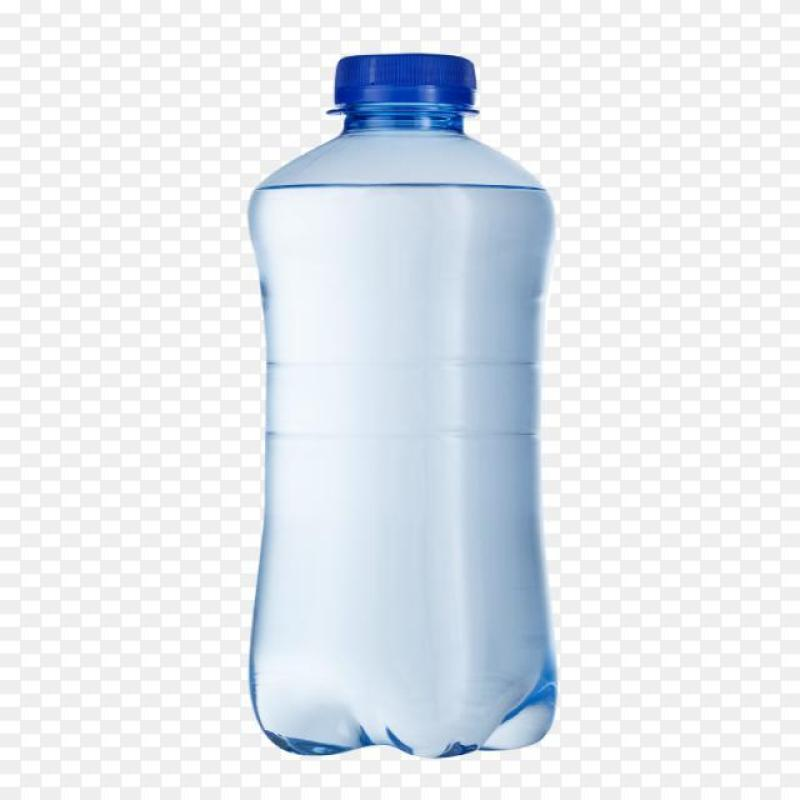botella: (246, 52, 562, 756)
